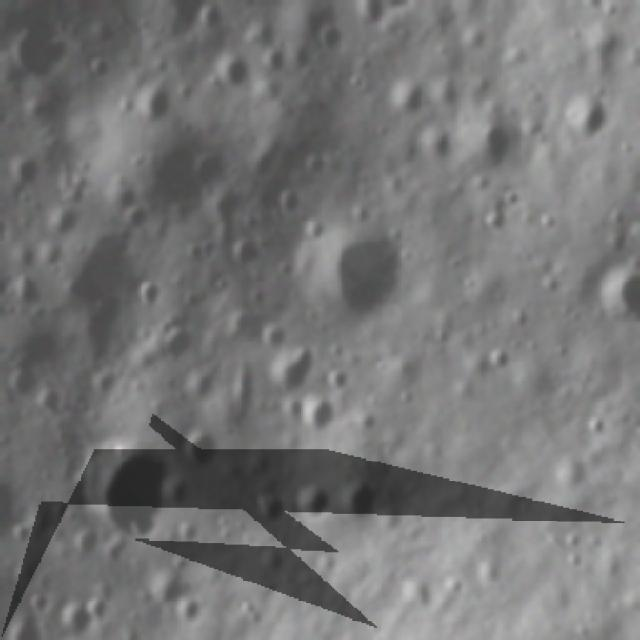crater: (305, 210, 420, 332), (77, 431, 177, 549), (252, 340, 323, 414), (7, 12, 75, 79), (456, 112, 522, 180), (211, 304, 286, 361), (132, 71, 182, 140), (337, 468, 385, 538), (557, 88, 611, 144), (179, 416, 226, 470), (216, 42, 259, 98), (289, 474, 331, 528), (386, 72, 431, 121), (52, 597, 98, 640), (228, 226, 268, 269), (251, 479, 286, 526), (274, 176, 311, 219), (168, 590, 206, 627), (135, 277, 167, 318), (315, 19, 351, 55), (257, 41, 294, 76), (3, 614, 48, 640), (483, 340, 515, 374), (194, 0, 226, 34), (86, 50, 111, 82)
